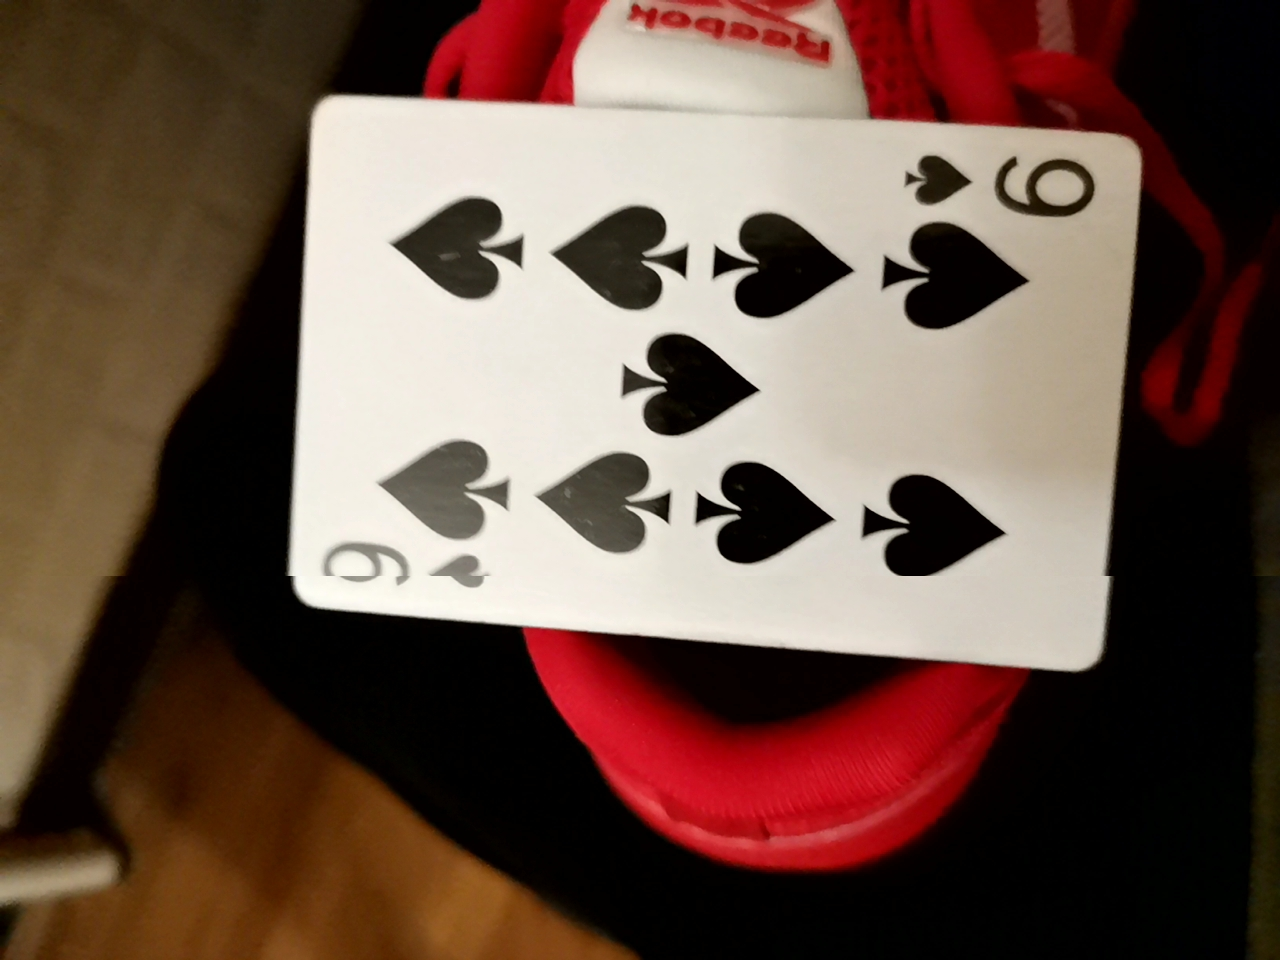ht 9: (281, 101, 1111, 690)
